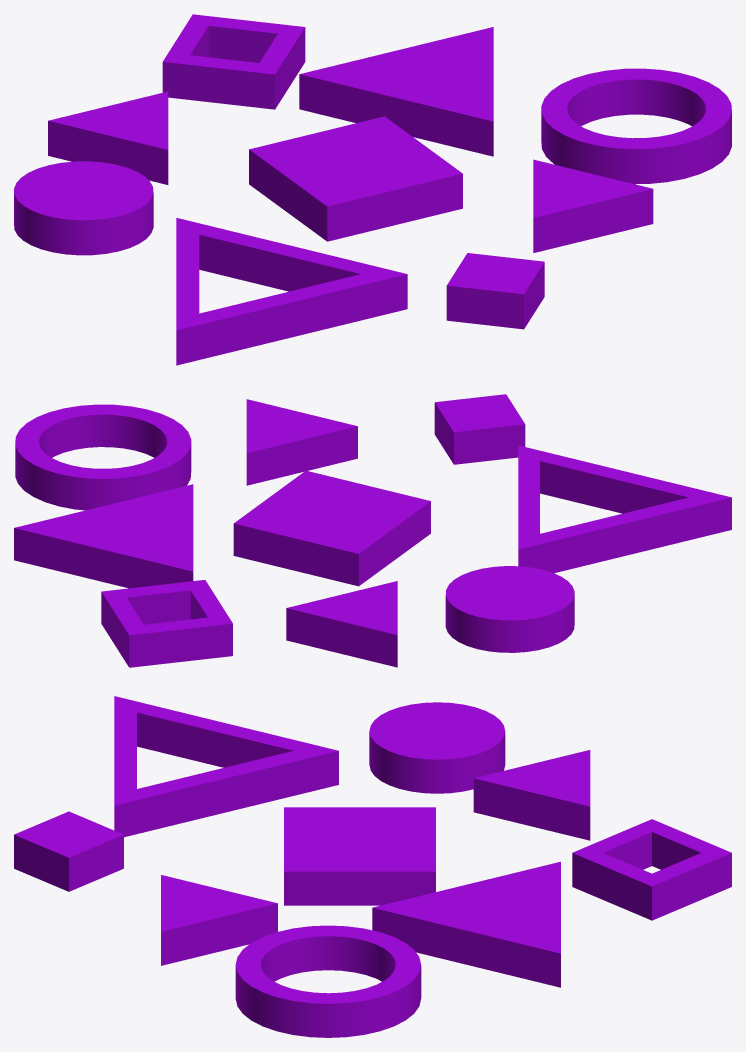
File: effect.fbx
3 views of the same model, one above another, from view 1: azimuth 30°, elevation 25°; view 2: azimuth 150°, elevation 25°; view 3: azimuth 270°, elevation 25° (orthographic). The views are drawn at different scales.
Visible parts, largest first — view 1: Плоскость; view 2: Плоскость; view 3: Плоскость.
Boxes of the visible parts, <box> form: Плоскость: <box>14,14,731,365</box>; Плоскость: <box>14,394,731,667</box>; Плоскость: <box>14,696,731,1037</box>.
Bounding box in the file's own units: 168 × 9.06 × 165.
